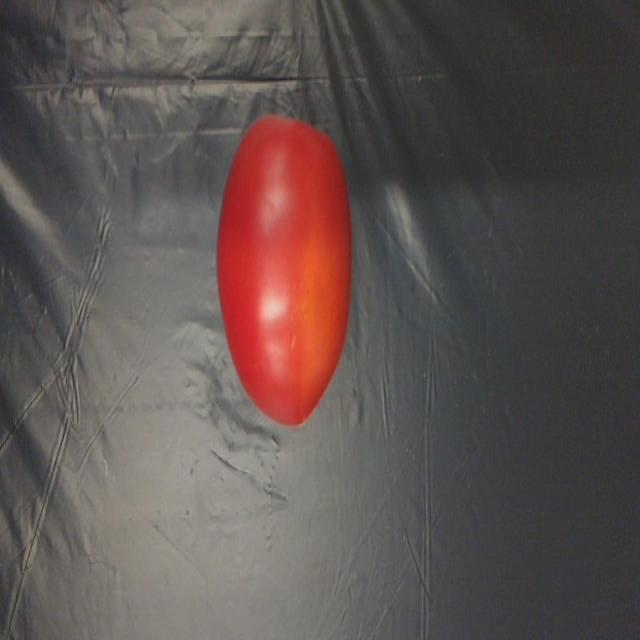kirmizi: (194, 106, 367, 412)
